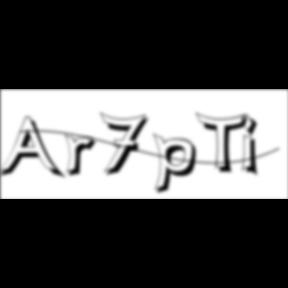7: (100, 111, 154, 179)
A: (0, 116, 68, 182)
T: (196, 112, 254, 176)
i: (241, 112, 265, 180)
p: (153, 132, 203, 198)
r: (65, 134, 103, 180)
